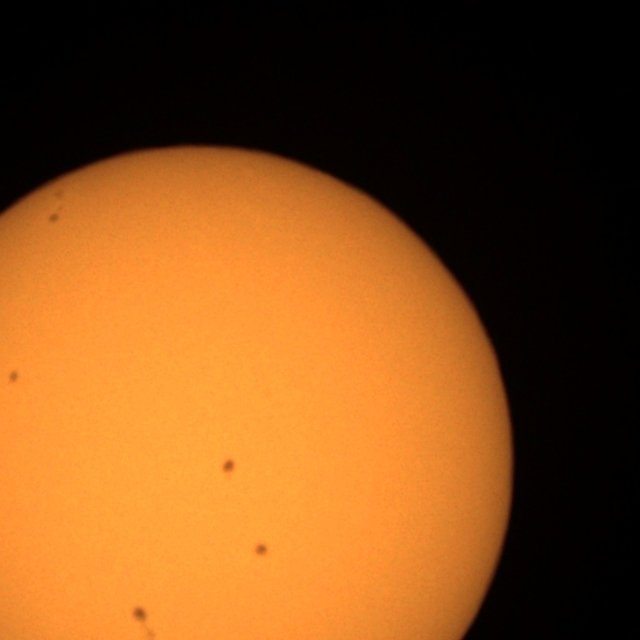sunspot: (130, 604, 159, 640), (130, 604, 150, 628), (220, 457, 237, 476), (253, 542, 270, 559), (6, 368, 21, 387)
